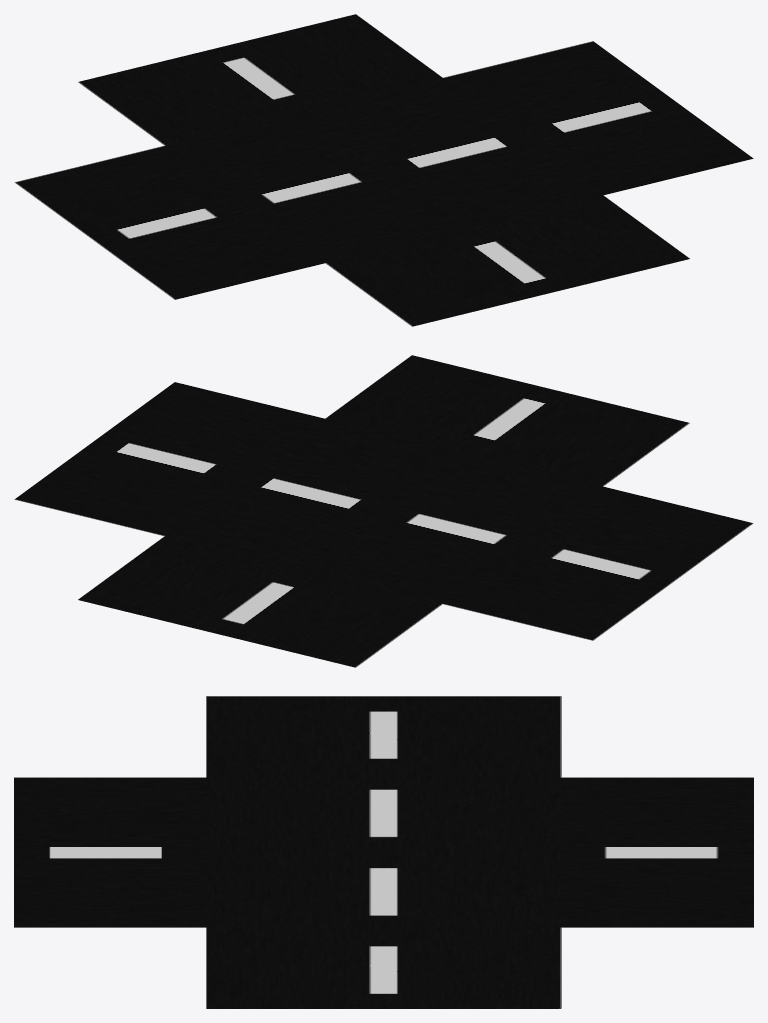
File: Road_CrossIntersection.fbx
The picture shows the model from 3 angles, top to bottom: view 1: azimuth 30°, elevation 25°; view 2: azimuth 150°, elevation 25°; view 3: azimuth 270°, elevation 25°; orthographic projection. The views are drawn at different scales.
Parts seen in each view (by area): view 1: polySurface3; view 2: polySurface3; view 3: polySurface3.
Boxes of the visible parts, x1,y1,x2,y2 form: polySurface3: (14,14,753,326); polySurface3: (14,355,753,667); polySurface3: (14,696,753,1008).
Size of the model in its own units: 69.5 by 0 by 69.5.
Materials: 1 (1 with a texture image).
